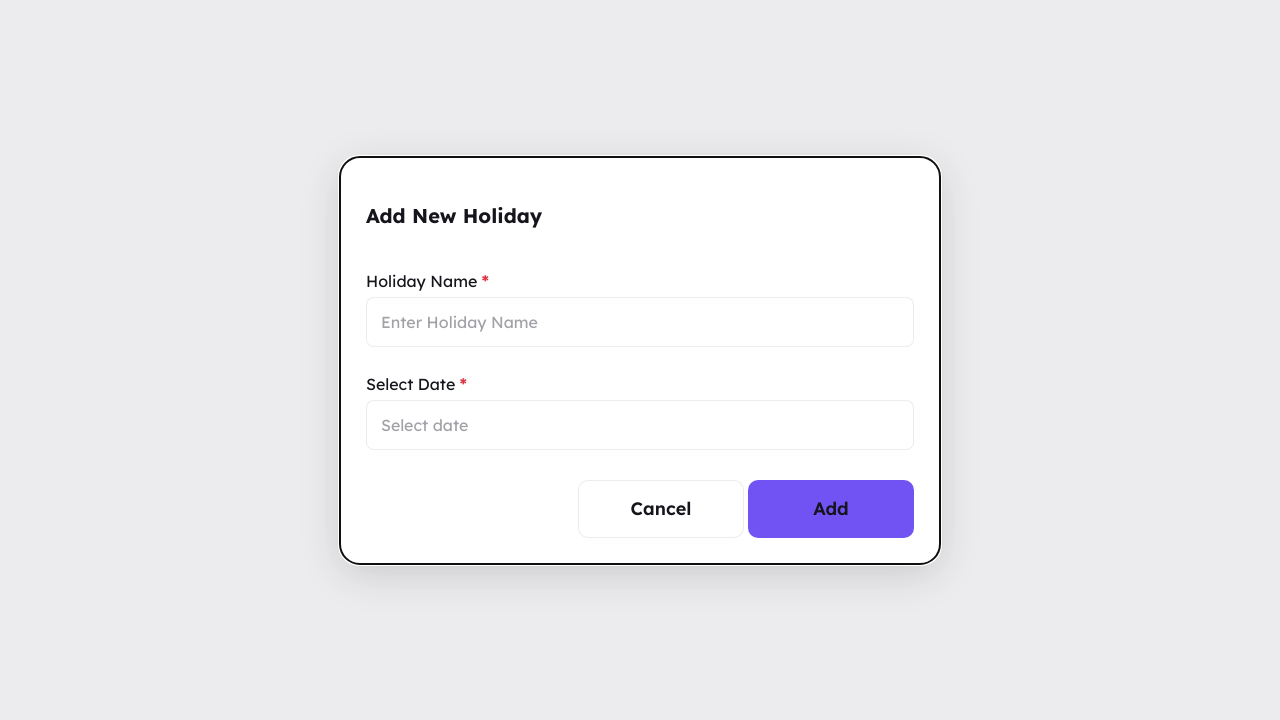
Test: AddHolidayModal › shows validation errors when submitting empty fields
Click the button "Add". click: coordinates (831, 508)
box: [748,480,914,538]
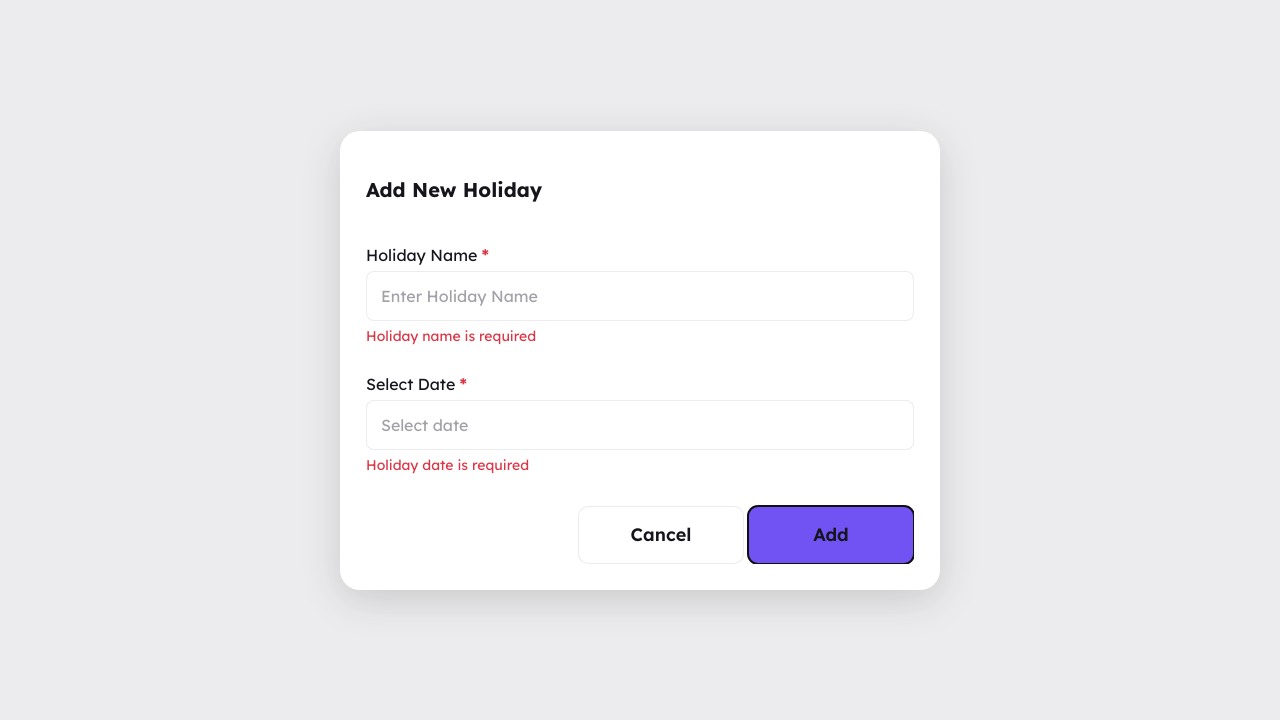
Check: the text "Holiday name is required" is shown, box [366,326,536,344]
Check: the text "Holiday date is required" is shown, box [366,456,529,474]
